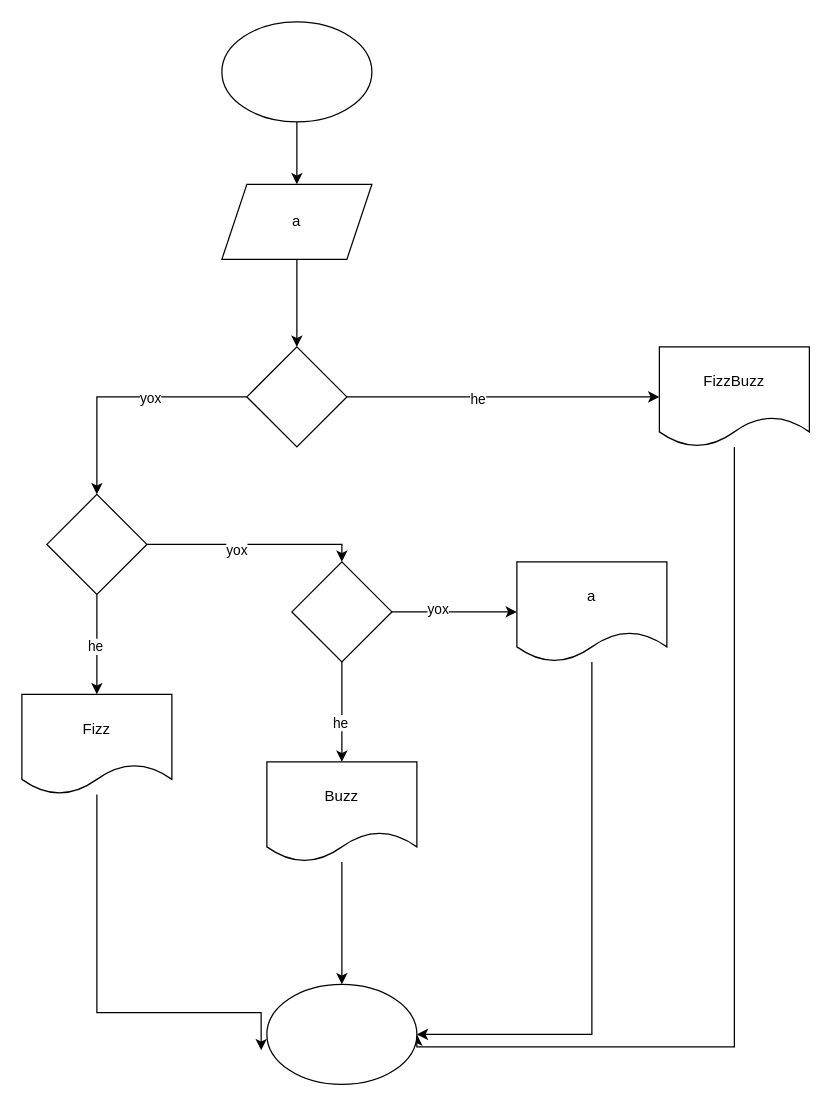
This 831x1106 diagram has some shape labels left out. The shapes that lost their labels are listed below. From the top down, each one's centre as x and y in pixels, then its label:
At point (296, 396): "a%15==0".
At point (96, 543): "a%3==0".
At point (341, 611): "a%5==0".
